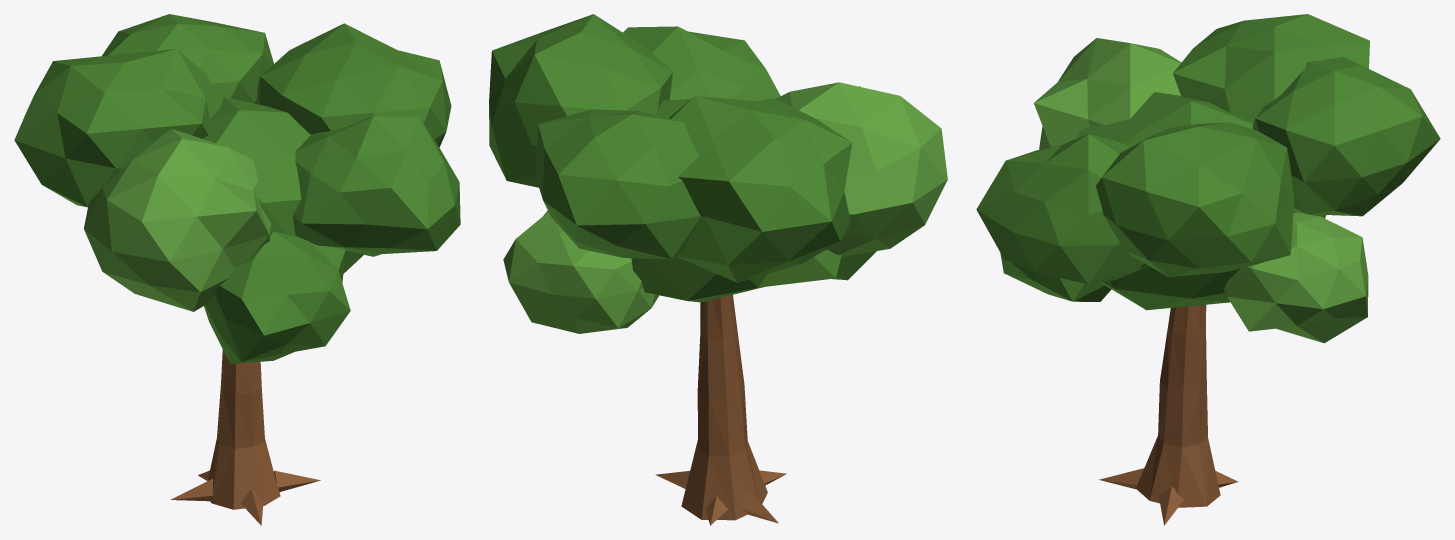
The model's file is HS_LP_Tree_Oak_01.fbx.
3 views of the same model, side by side, from view 1: azimuth 30°, elevation 25°; view 2: azimuth 150°, elevation 25°; view 3: azimuth 270°, elevation 25° (orthographic). The views are drawn at different scales.
Visible parts, largest first — view 1: HS_LP_Tree_Oak_01; view 2: HS_LP_Tree_Oak_01; view 3: HS_LP_Tree_Oak_01.
Boxes of the visible parts, x1,y1,x2,y2 form: HS_LP_Tree_Oak_01: (14,14,460,525); HS_LP_Tree_Oak_01: (489,14,947,525); HS_LP_Tree_Oak_01: (976,14,1440,525).
Bounding box in the file's own units: 541 × 578 × 560.
